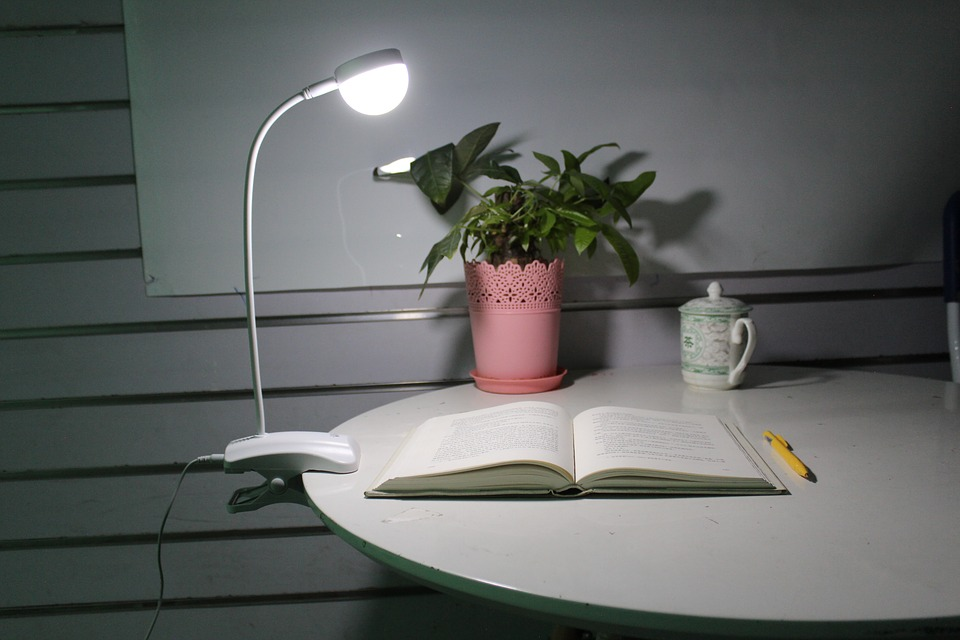Open Book: (382, 404, 782, 507)
